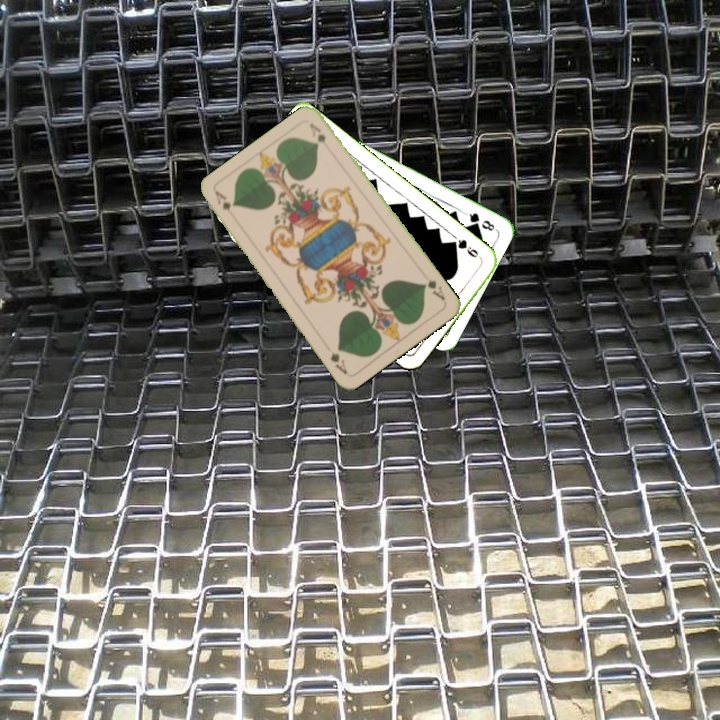G8: (461, 209, 497, 234)
G9: (447, 235, 485, 263)
GA: (211, 187, 239, 222), (419, 275, 448, 303)
